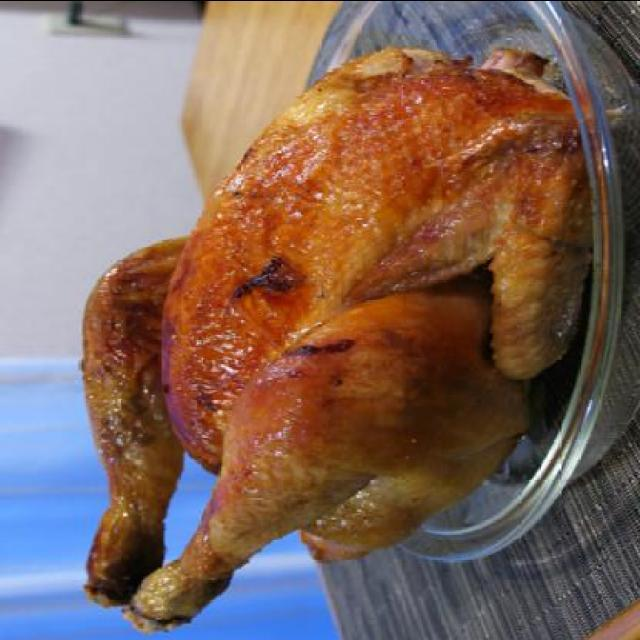Chicken roast: (64, 50, 604, 612)
